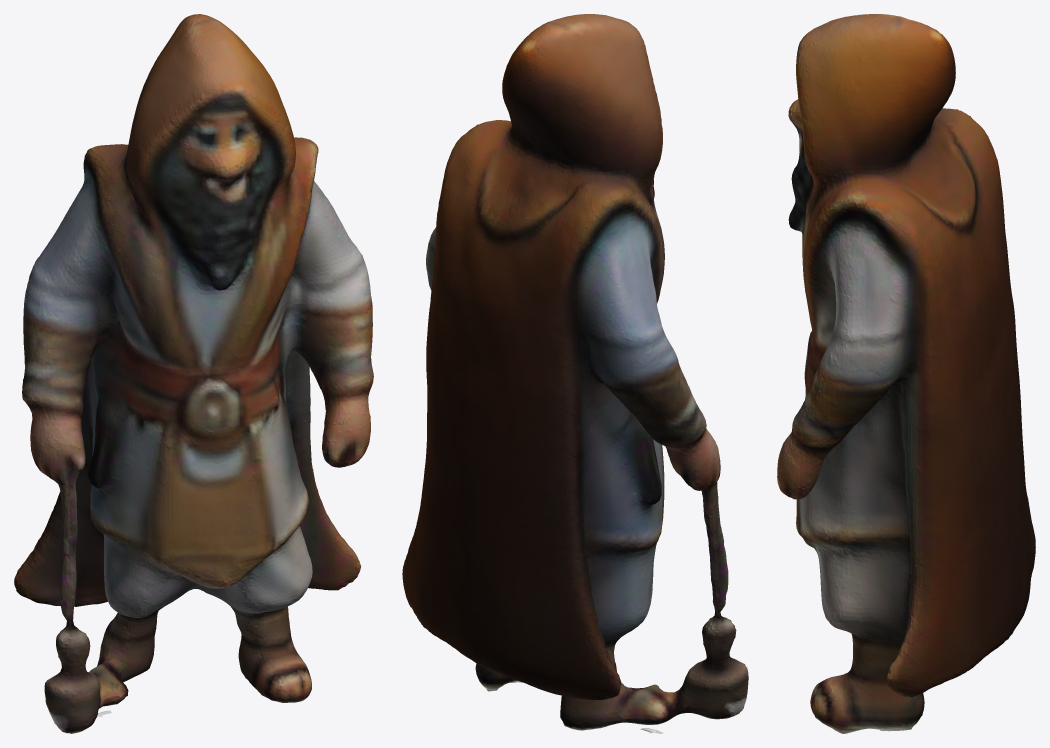
The model's file is mesh_with_colors.obj.
3 views of the same model, side by side, from view 1: azimuth 30°, elevation 25°; view 2: azimuth 150°, elevation 25°; view 3: azimuth 270°, elevation 25° (orthographic).
Size of the model in its own units: 0.5196 by 1.03 by 0.3563.
